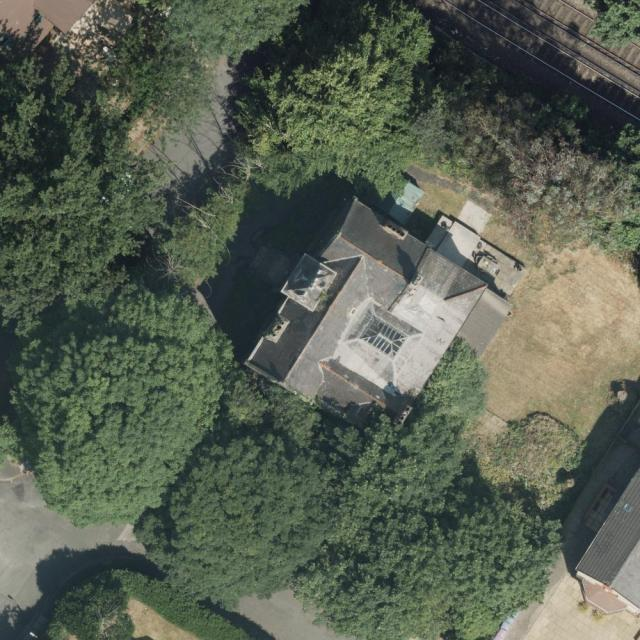roof: (243, 196, 514, 444), (574, 467, 640, 614)
skylight: (356, 312, 407, 360), (621, 501, 634, 516)
